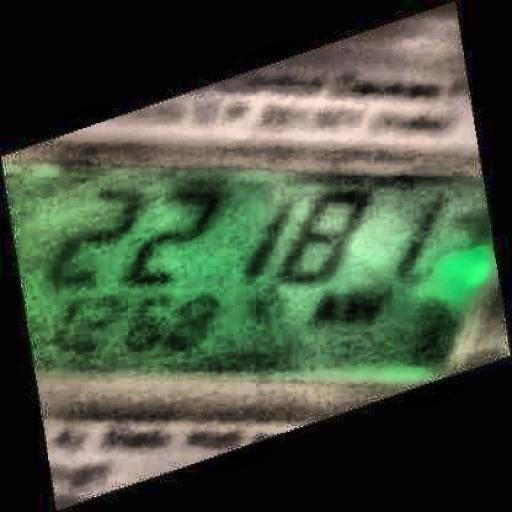DISPLAY_REGION: (1, 142, 512, 398)
SERIAL_REGION: (54, 178, 444, 317)
